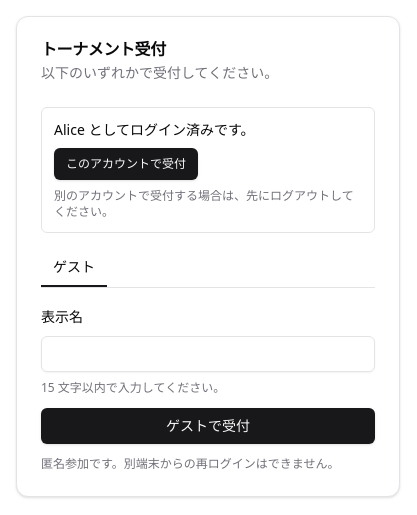
Test: JoinClient — 自動所属フィードバック（08 Phase 2） › joined のときサークル名入りのメッセージを出し、group コンテキストを更新する
Click the button "このアカウントで受付".
click(126, 164)  # box [54,148,198,180]
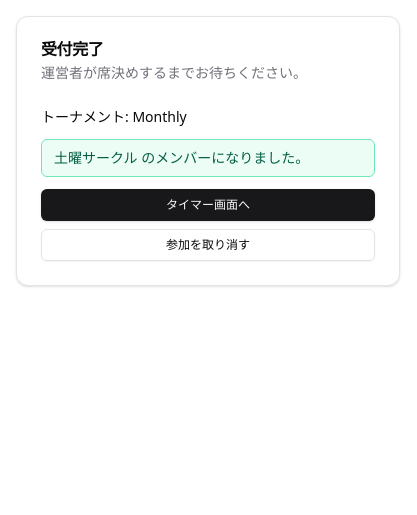
Expected: the text "受付完了" is shown, [41,38,103,60]
Expected: the text "土曜サークル のメンバーになりました。" is shown, [41,139,375,177]
